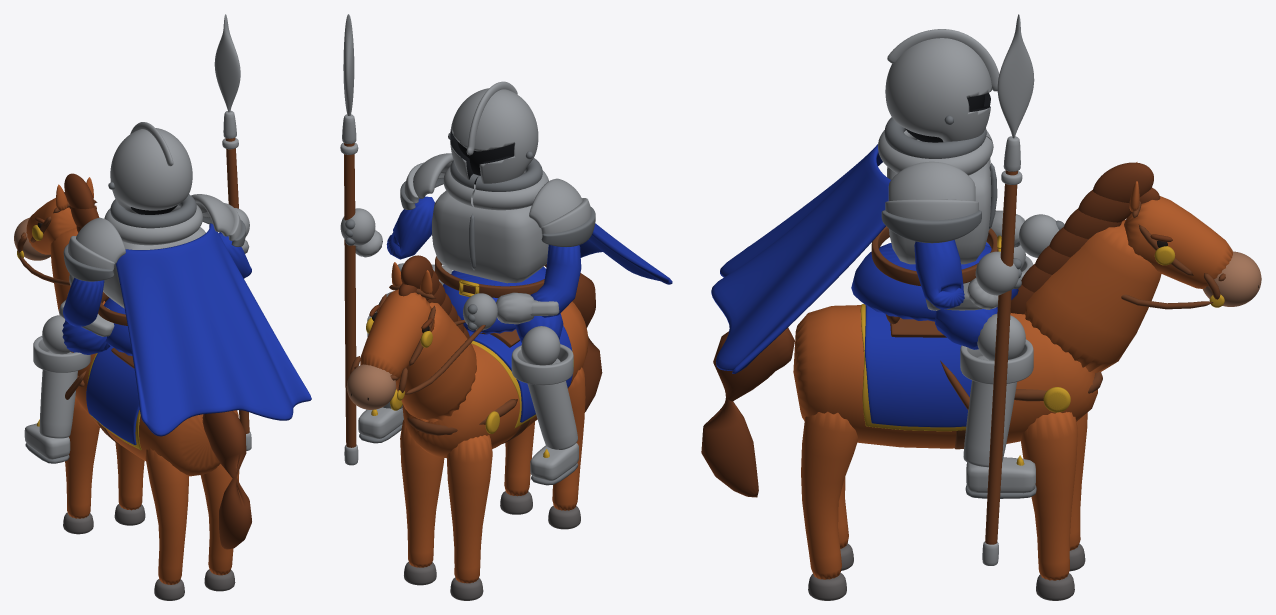
The model's file is quickfeet_detail.glb.
3 renders of one model, left to right at view 1: azimuth 30°, elevation 25°; view 2: azimuth 150°, elevation 25°; view 3: azimuth 270°, elevation 25°, orthographic. The views are drawn at different scales.
Visible parts, largest first — view 1: Detail; view 2: Detail; view 3: Detail.
Part boxes in pixels (bbox=[...]): Detail: bbox=[14, 14, 311, 600]; Detail: bbox=[340, 14, 672, 600]; Detail: bbox=[701, 14, 1261, 600].
Bounding box in the file's own units: 0.6604 × 1.48 × 1.19.
